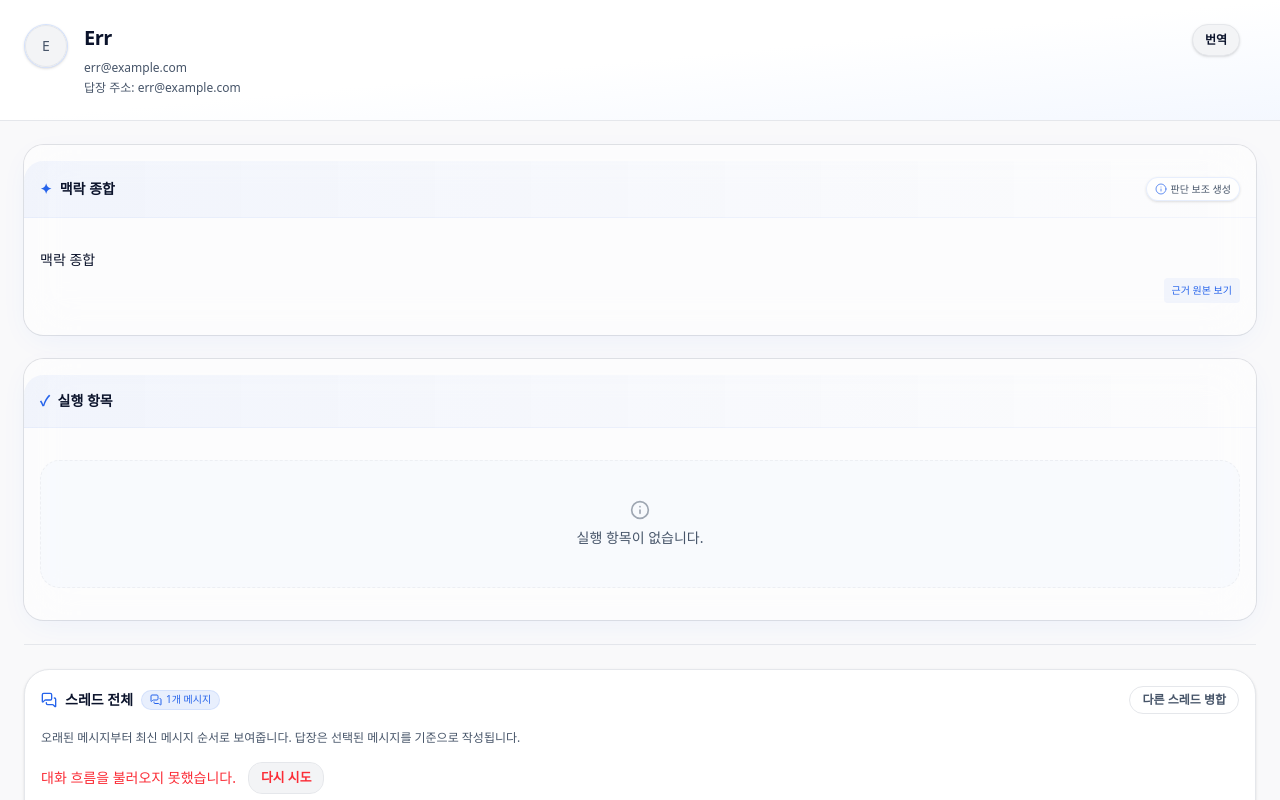
Test case: EmailDetail › handles retrying to fetch thread
Click the button "다시 시도" at {"x": 286, "y": 778}, box [248,762,324,794]
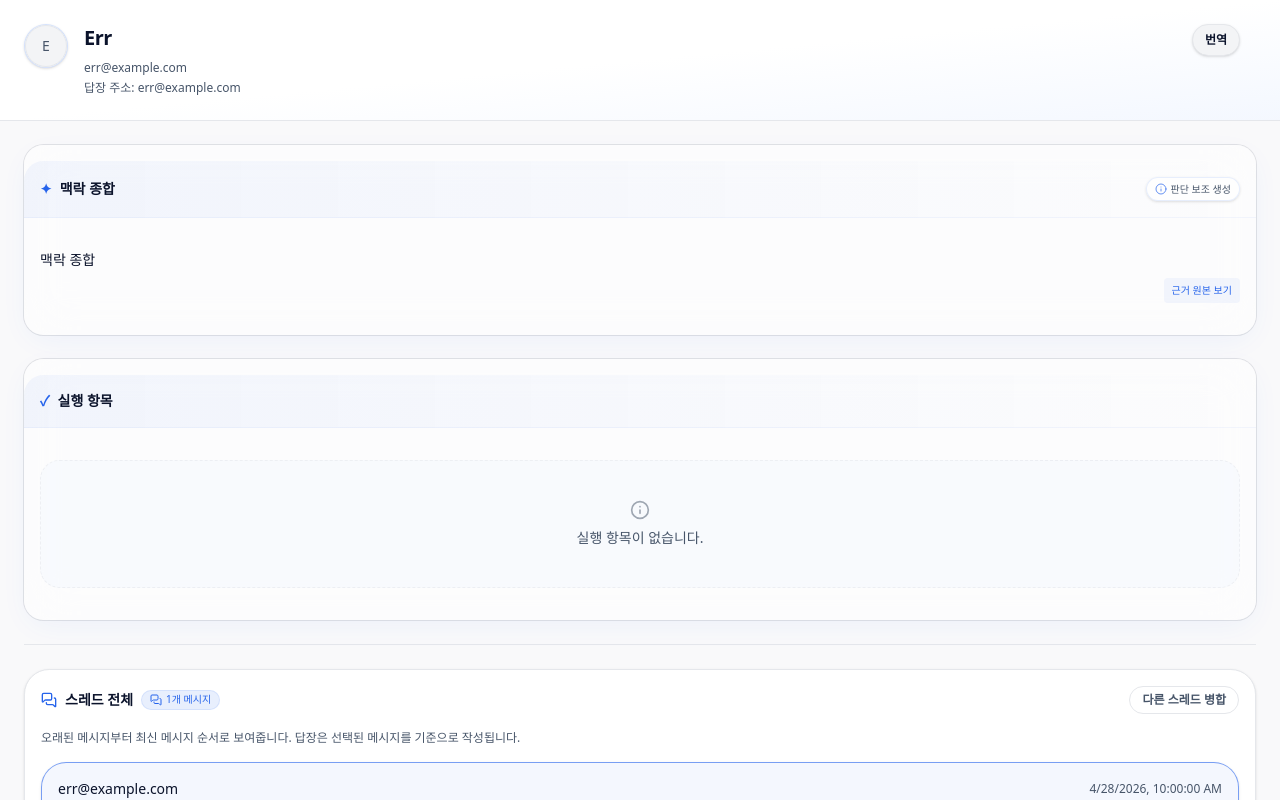
Expected: the text "대화 흐름을 불러오지 못했습니다." is gone
